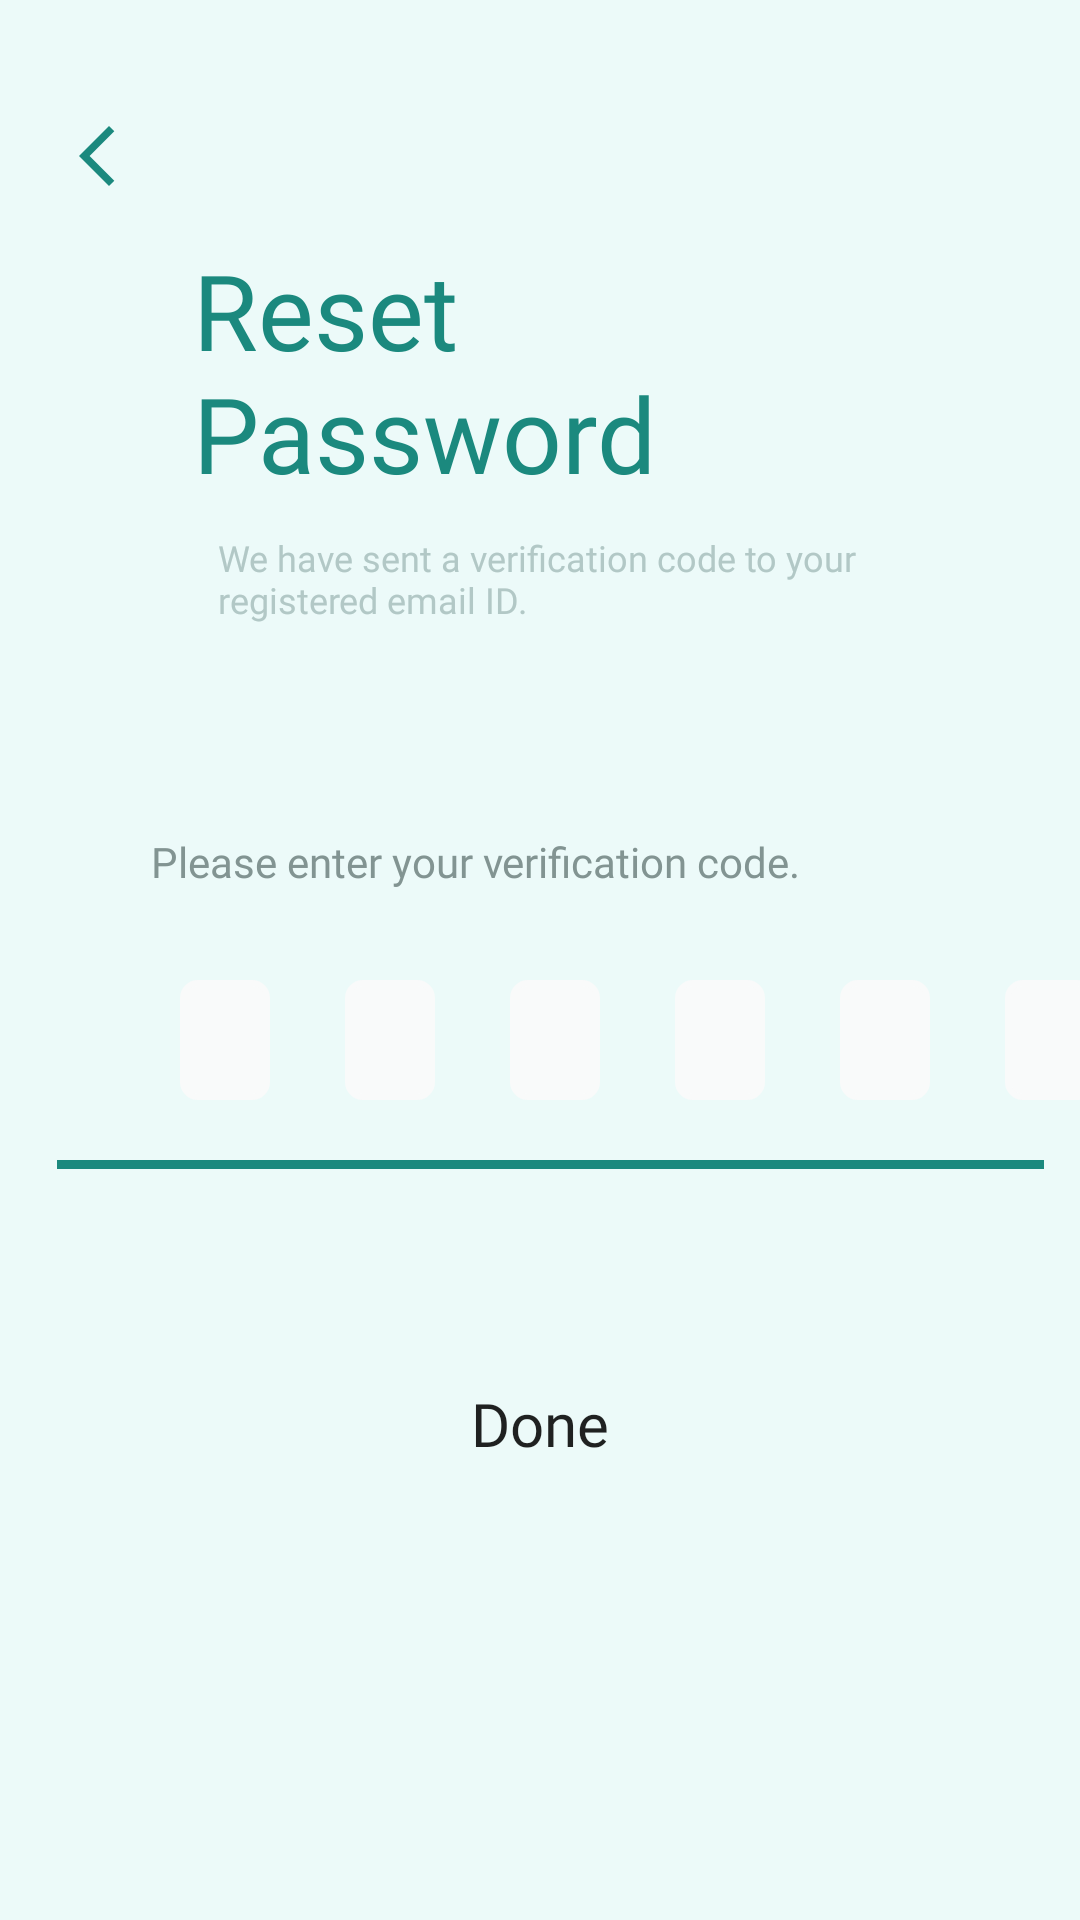

Where icons sit on this 1080px×1920px app screen, as (x1, y1, x2, y2):
arrow: (79, 126, 114, 186)
